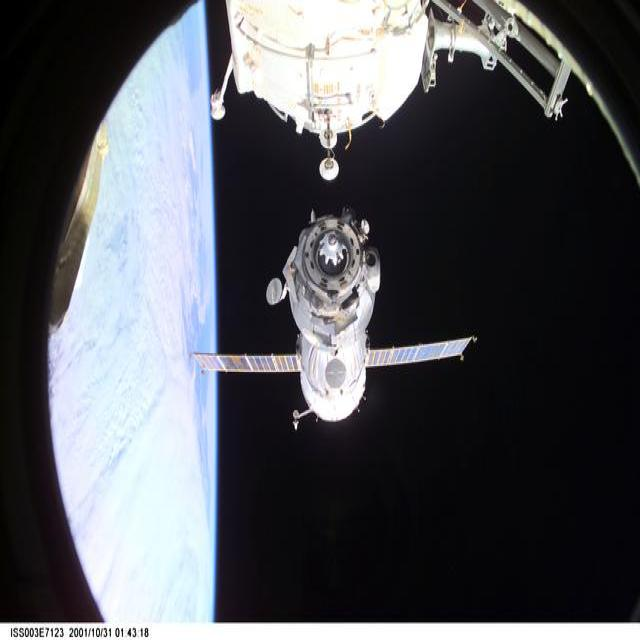satellite: (194, 211, 474, 429)
